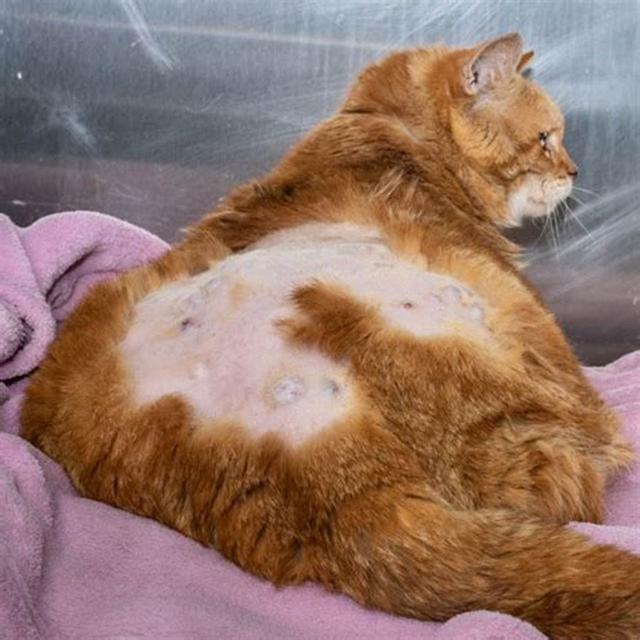hairloss: (145, 216, 471, 407)
